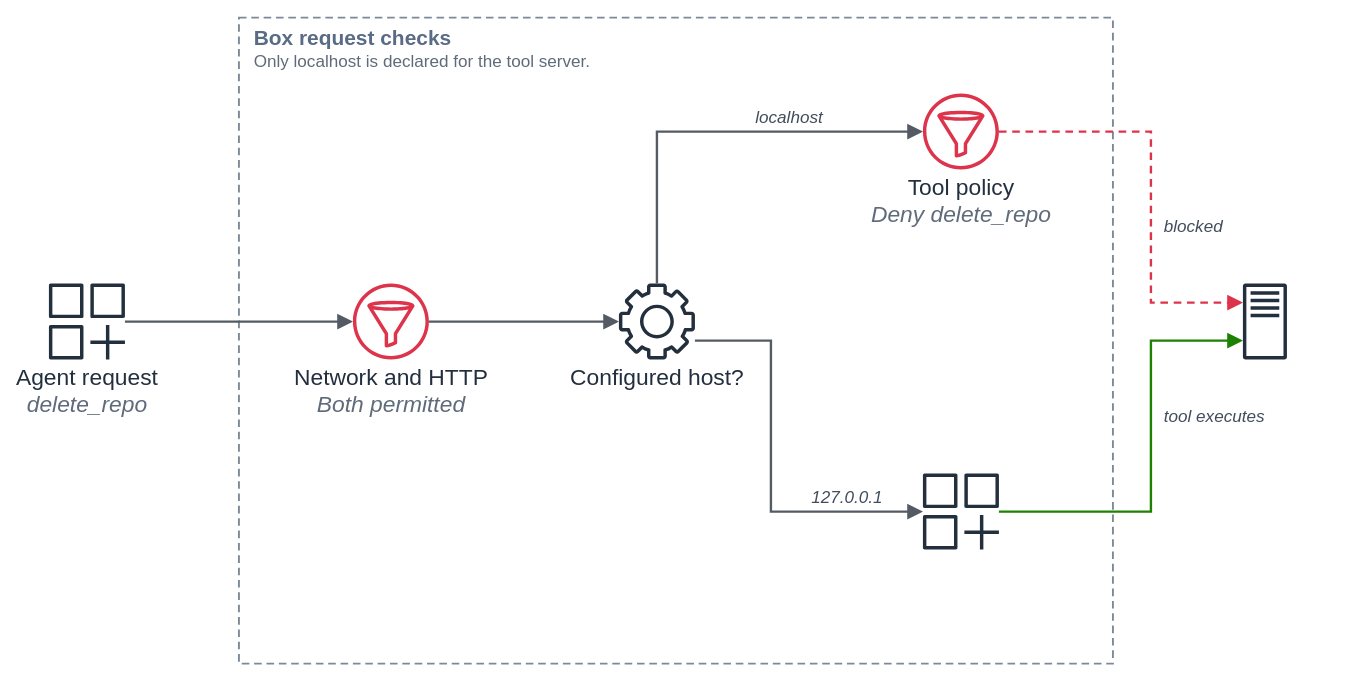
Image size: 1367x680. Some labels were removed from this diagram. The shapes that lost their labels are listed below. From the top down, each one's box as (x1, y1, x2, y2) in pixels, then its label:
(1226, 283, 1302, 359): Same tool server
(922, 473, 998, 549): Ordinary HTTP No tool check
